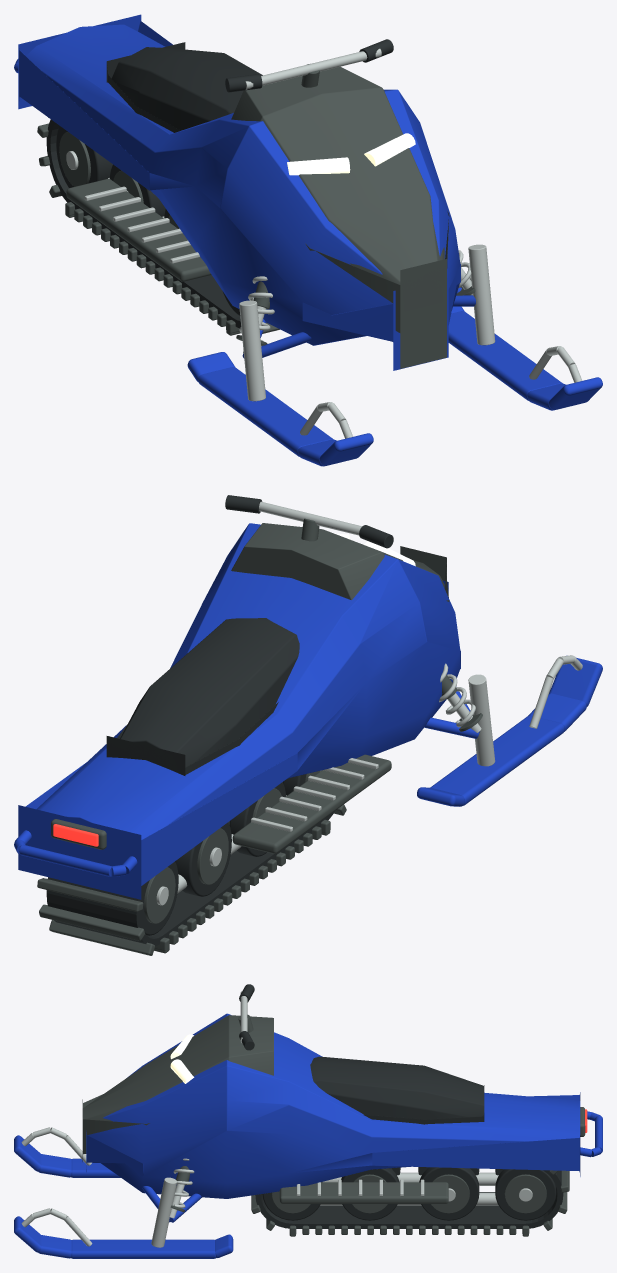
Rendered from snowmobile.glb.
3 views of the same model, one above another, from view 1: azimuth 30°, elevation 25°; view 2: azimuth 150°, elevation 25°; view 3: azimuth 270°, elevation 25° (orthographic). The views are drawn at different scales.
Visible parts, largest first — view 1: Tunnel and fairing, Graphite bonnet, Saddle, Footboard, Upturned runner.002, Upturned runner.006, Endless rubber track, Steering spindle, Steering spindle.001, Handlebar, Wheel face.003, Upturned runner (+6 smaller); view 2: Tunnel and fairing, Saddle, Graphite bonnet, Endless rubber track, Footboard, Upturned runner.002, Upturned runner, Steering spindle, Return cleat.002, Bogie tyre.002, Return cleat.003, Return cleat.001 (+10 smaller); view 3: Tunnel and fairing, Saddle, Graphite bonnet, Endless rubber track, Footboard.001, Upturned runner.006, Bogie tyre.007, Bogie tyre.006, Wheel face.007, Steering spindle.001, Bogie tyre.005, Wheel face.006 (+8 smaller).
Part boxes in pixels (left/top/right/bottom): Tunnel and fairing: left=18, top=14, right=460, bottom=370; Graphite bonnet: left=231, top=66, right=449, bottom=368; Saddle: left=106, top=42, right=262, bottom=132; Footboard: left=66, top=178, right=211, bottom=281; Upturned runner.002: left=198, top=367, right=333, bottom=456; Upturned runner.006: left=448, top=311, right=562, bottom=400; Endless rubber track: left=46, top=119, right=241, bottom=328; Steering spindle: left=239, top=300, right=265, bottom=401; Steering spindle.001: left=468, top=244, right=495, bottom=345; Handlebar: left=245, top=48, right=381, bottom=89; Wheel face.003: left=59, top=132, right=90, bottom=186; Upturned runner: left=319, top=433, right=373, bottom=465; Tunnel and fairing: left=18, top=523, right=460, bottom=899; Saddle: left=106, top=618, right=299, bottom=775; Graphite bonnet: left=231, top=523, right=449, bottom=601; Endless rubber track: left=46, top=810, right=335, bottom=945; Footboard: left=232, top=754, right=391, bottom=853; Upturned runner.002: left=430, top=715, right=564, bottom=805; Upturned runner: left=549, top=655, right=602, bottom=706; Steering spindle: left=468, top=674, right=495, bottom=766; Return cleat.002: left=39, top=904, right=144, bottom=940; Bogie tyre.002: left=175, top=822, right=231, bottom=896; Return cleat.003: left=37, top=878, right=143, bottom=911; Return cleat.001: left=49, top=920, right=154, bottom=955; Tunnel and fairing: left=86, top=1013, right=580, bottom=1198; Saddle: left=310, top=1056, right=484, bottom=1124; Graphite bonnet: left=82, top=1015, right=273, bottom=1162; Endless rubber track: left=255, top=1170, right=563, bottom=1228; Footboard.001: left=279, top=1182, right=448, bottom=1203; Upturned runner.006: left=71, top=1239, right=216, bottom=1258; Bogie tyre.007: left=495, top=1169, right=556, bottom=1220; Bogie tyre.006: left=419, top=1167, right=479, bottom=1220; Wheel face.007: left=504, top=1174, right=546, bottom=1213; Steering spindle.001: left=151, top=1177, right=176, bottom=1247; Bogie tyre.005: left=341, top=1168, right=399, bottom=1220; Wheel face.006: left=431, top=1174, right=469, bottom=1213.
Size of the model in its own units: 1.19 by 1.21 by 3.14.
